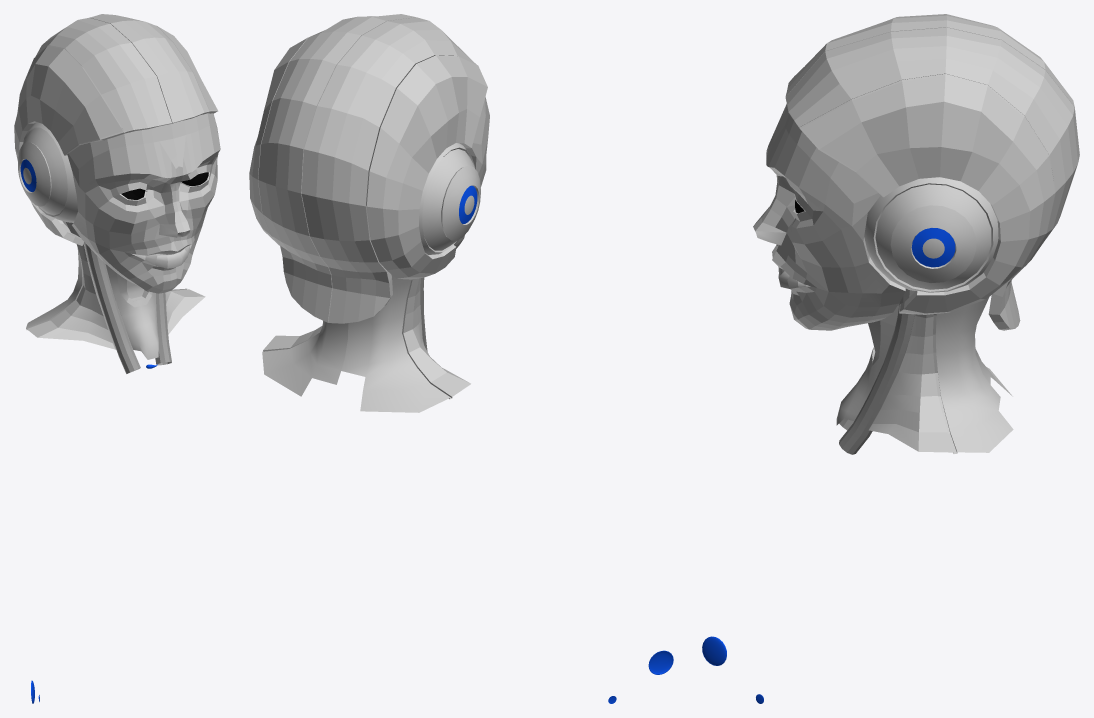
The model's file is female.obj.
The picture shows the model from 3 angles, left to right: view 1: azimuth 30°, elevation 25°; view 2: azimuth 150°, elevation 25°; view 3: azimuth 270°, elevation 25°; orthographic projection. The views are drawn at different scales.
Visible parts, largest first — view 1: pPlane1_cyborg, cyborg_polySurface4, cyborg_pPlane2, cyborg_polySurface5, cyborg_polySurface1, cyborg_pSphere5, cyborg_pCylinder2, cyborg_pCylinder1, cyborg_polySurface2; view 2: cyborg_polySurface5, cyborg_polySurface4, cyborg_pPlane2, cyborg_polySurface1, cyborg_pSphere5, cyborg_polySurface2, pPlane1_cyborg; view 3: cyborg_polySurface2, pPlane1_cyborg, cyborg_polySurface1, cyborg_pPlane2, cyborg_pSphere3, cyborg_polySurface5, cyborg_pCylinder1, cyborg_pSphere7.
Part boxes in pixels (box(x1,y1,x2,y2)): pPlane1_cyborg: box(67, 113, 220, 293); cyborg_polySurface4: box(14, 45, 125, 245); cyborg_pPlane2: box(26, 222, 205, 359); cyborg_polySurface5: box(35, 17, 171, 226); cyborg_polySurface1: box(90, 14, 209, 123); cyborg_pSphere5: box(18, 122, 77, 222); cyborg_pCylinder2: box(85, 243, 140, 373); cyborg_pCylinder1: box(155, 292, 171, 365); cyborg_polySurface2: box(157, 26, 217, 113); cyborg_polySurface5: box(301, 17, 476, 323); cyborg_polySurface4: box(366, 55, 487, 279); cyborg_pPlane2: box(262, 274, 470, 412); cyborg_polySurface1: box(258, 14, 415, 322); cyborg_pSphere5: box(419, 143, 480, 254); cyborg_polySurface2: box(249, 29, 325, 245); pPlane1_cyborg: box(454, 97, 489, 248); cyborg_polySurface2: box(799, 74, 1055, 314); pPlane1_cyborg: box(753, 104, 905, 330); cyborg_polySurface1: box(785, 27, 1079, 330); cyborg_pPlane2: box(836, 297, 1013, 453); cyborg_pSphere3: box(864, 177, 998, 292); cyborg_polySurface5: box(785, 14, 1074, 318); cyborg_pCylinder1: box(839, 288, 914, 454); cyborg_pSphere7: box(702, 636, 726, 665).
Size of the model in its own units: 4.23 by 9.12 by 4.07.
